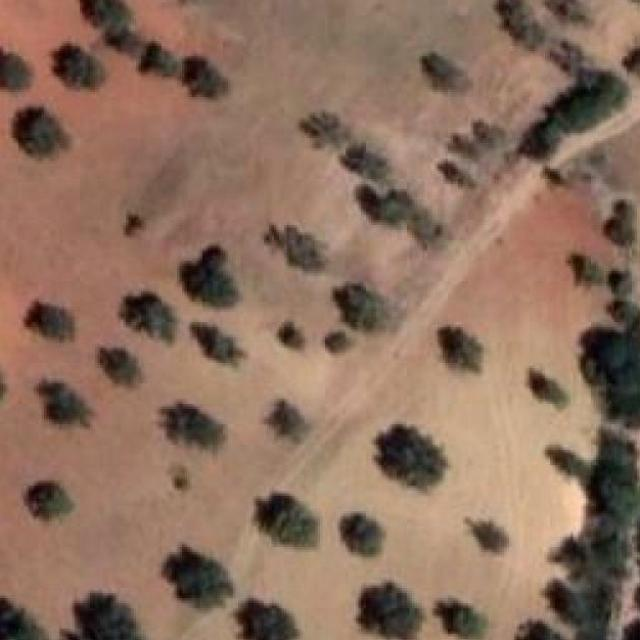Tree: (575, 322, 640, 424), (364, 419, 439, 492), (157, 542, 235, 607), (364, 189, 443, 253), (59, 590, 154, 640), (548, 69, 626, 127), (175, 243, 241, 306), (348, 580, 416, 640), (251, 496, 322, 553), (159, 393, 225, 452), (11, 100, 78, 158), (329, 276, 398, 332), (267, 220, 334, 277), (185, 320, 248, 369), (119, 286, 174, 342), (42, 378, 98, 426), (26, 294, 84, 340), (185, 56, 236, 106), (98, 342, 149, 392), (48, 43, 102, 90), (436, 325, 486, 375), (336, 509, 386, 558), (264, 399, 311, 451), (432, 596, 487, 640), (294, 106, 348, 150), (235, 600, 294, 640), (136, 41, 184, 89), (492, 0, 543, 45), (422, 49, 474, 93), (451, 118, 511, 156), (461, 509, 514, 551), (0, 593, 45, 640), (518, 118, 562, 164), (538, 576, 580, 624), (507, 606, 561, 640), (342, 146, 388, 185), (0, 46, 37, 93), (604, 202, 640, 248), (27, 478, 68, 518), (545, 0, 593, 33), (524, 366, 562, 406), (166, 463, 206, 501), (103, 22, 144, 58), (566, 246, 602, 286), (80, 0, 133, 27), (550, 438, 585, 478), (606, 294, 640, 334), (550, 534, 584, 574), (442, 156, 478, 188), (274, 319, 308, 352), (322, 327, 357, 359), (116, 208, 143, 238), (609, 269, 640, 294), (619, 44, 640, 73)
